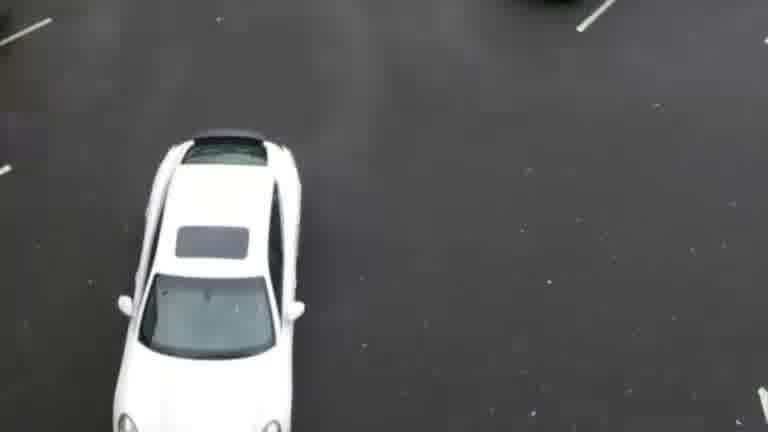car: (93, 114, 322, 432)
